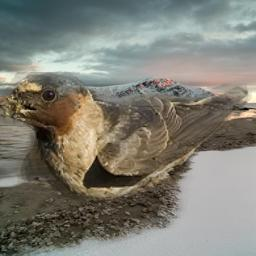Swallow: (0, 72, 252, 208)
